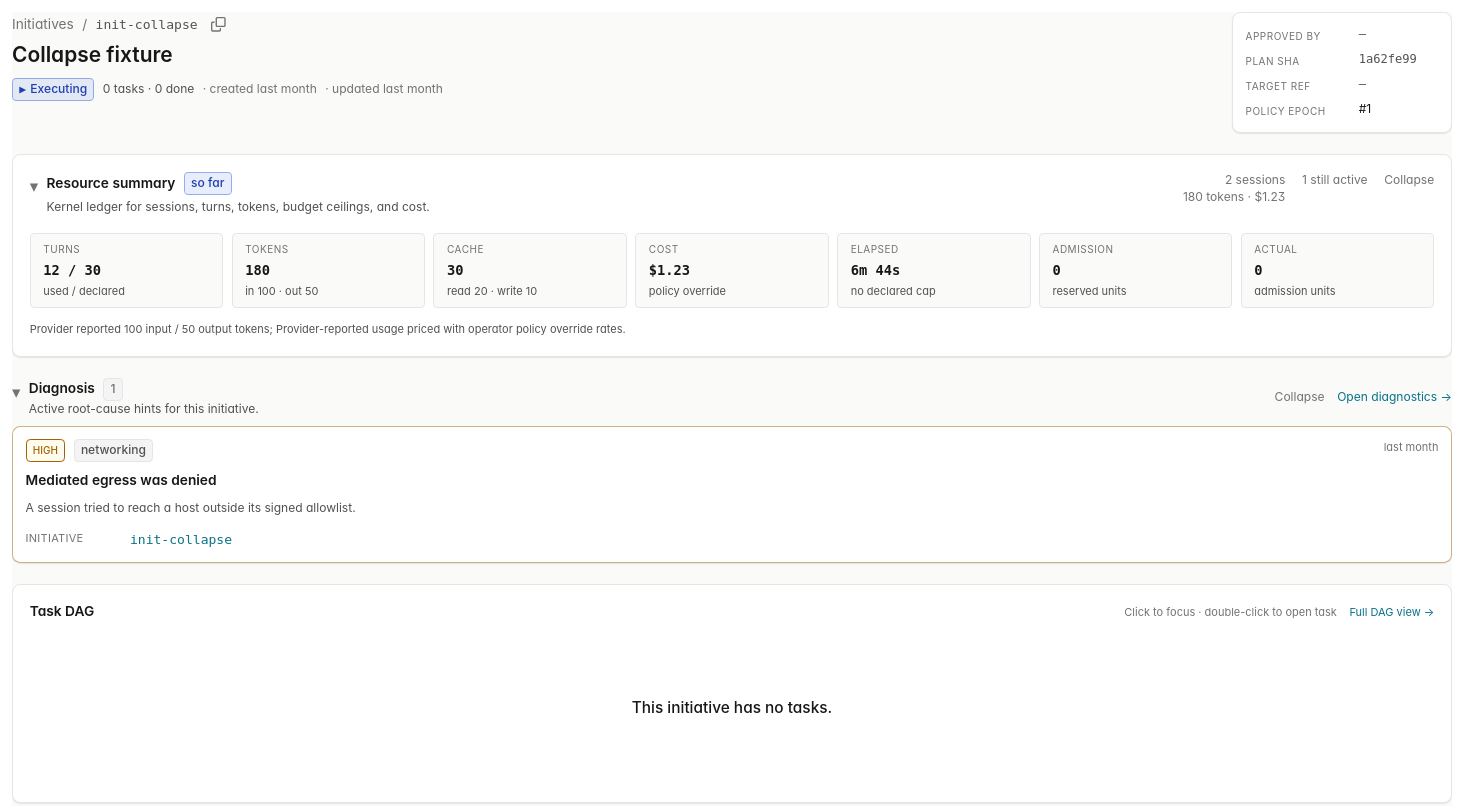
Test case: <InitiativeDetailPage> collapsible summary panels › collapses resource summary and diagnosis sections without removing their headers
expect the heading "Resource summary" is shown: met, box [46,174,175,193]
expect the text "Provider reported" is shown: met, box [30,322,124,336]
Click the button "Resource summary": coordinates (111, 183) [30,172,1170,216]
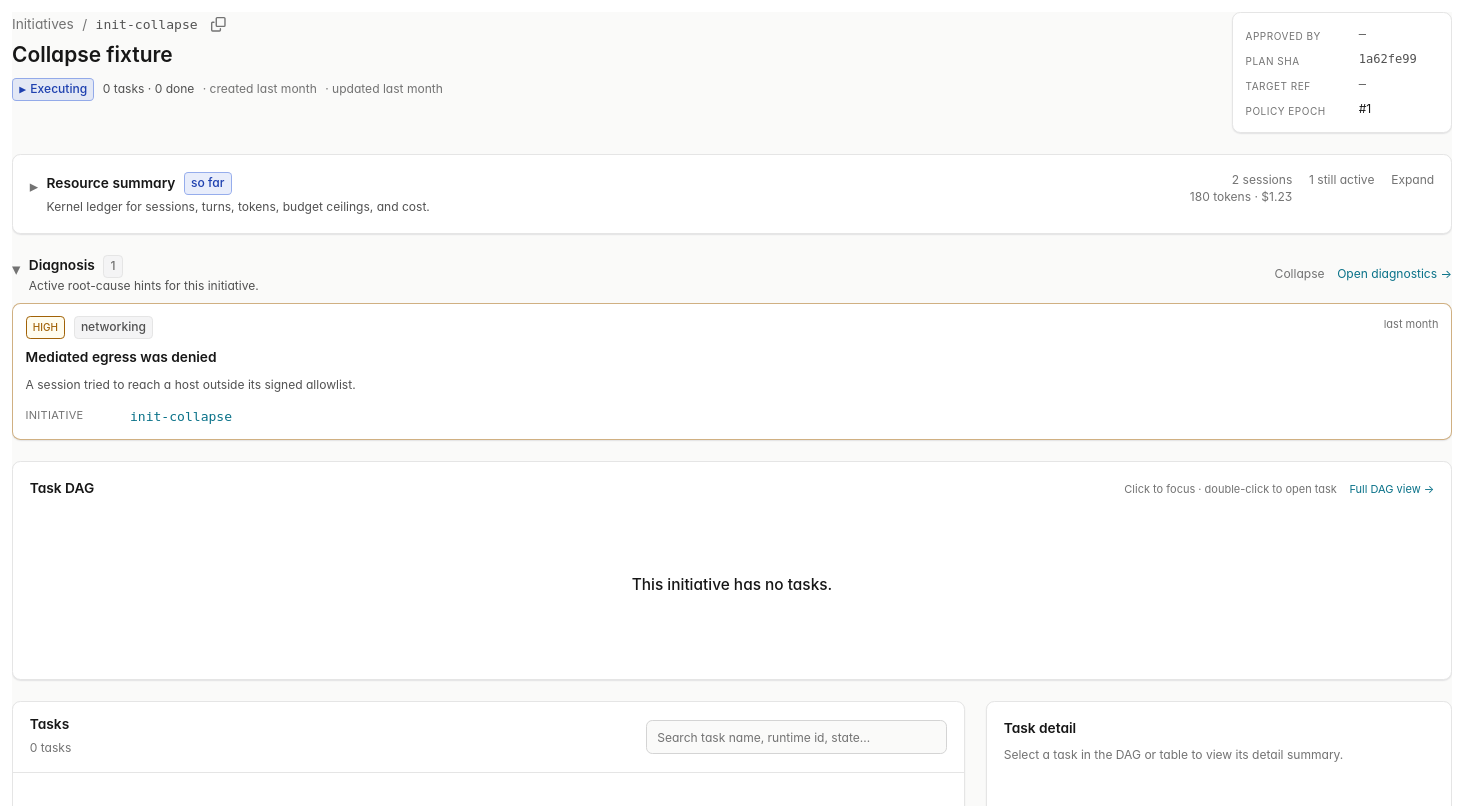
expect the heading "Resource summary" is shown: met, box [46,174,175,193]
expect the text "Provider reported" is gone: met
Click the button "▾ Diagnosis 1 Active root-cause hints for this initiative.": coordinates (62, 265) [12,255,1262,294]
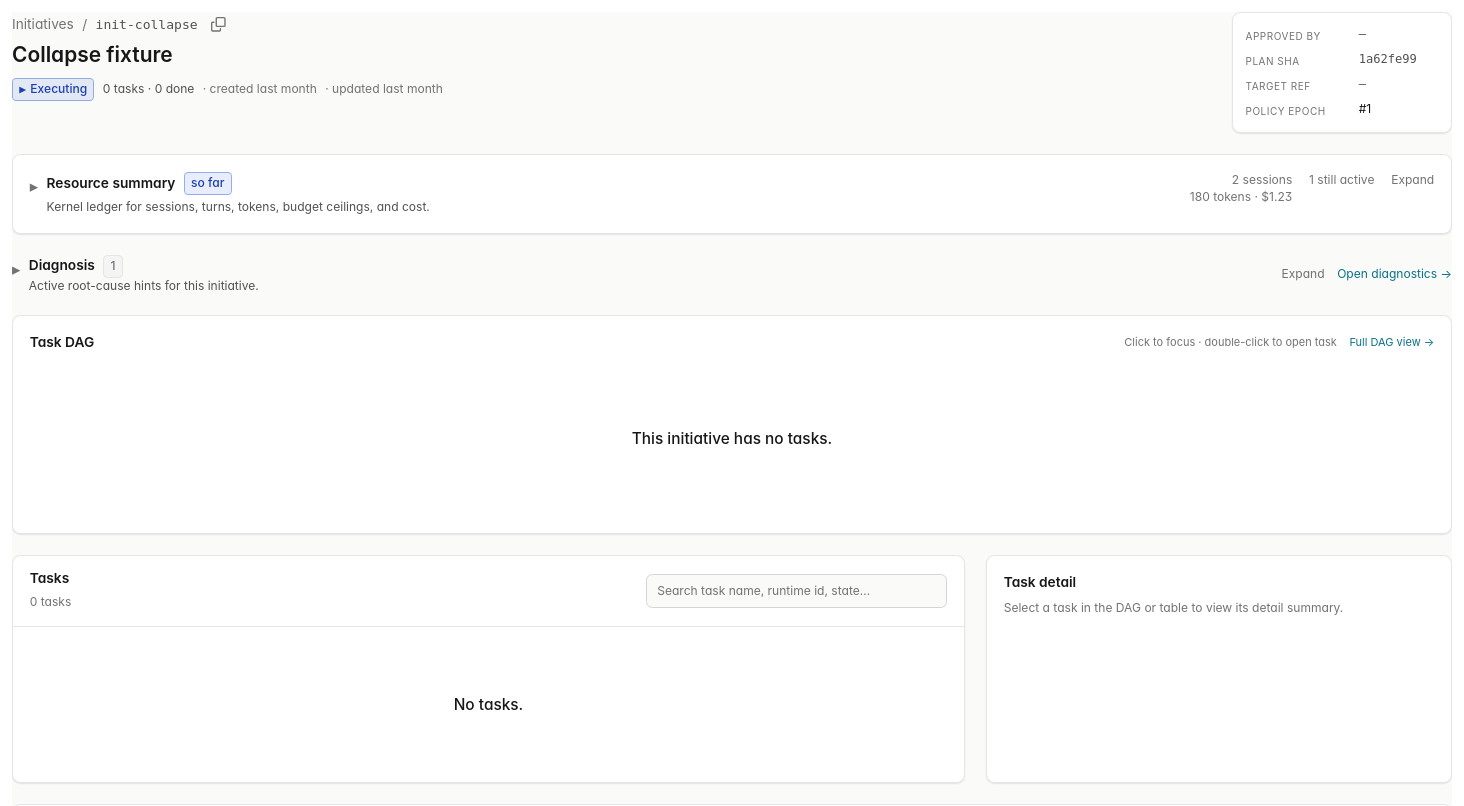
expect the heading "Diagnosis" is shown: met, box [29,256,95,276]
expect the heading "Mediated egress was denied" is gone: met
